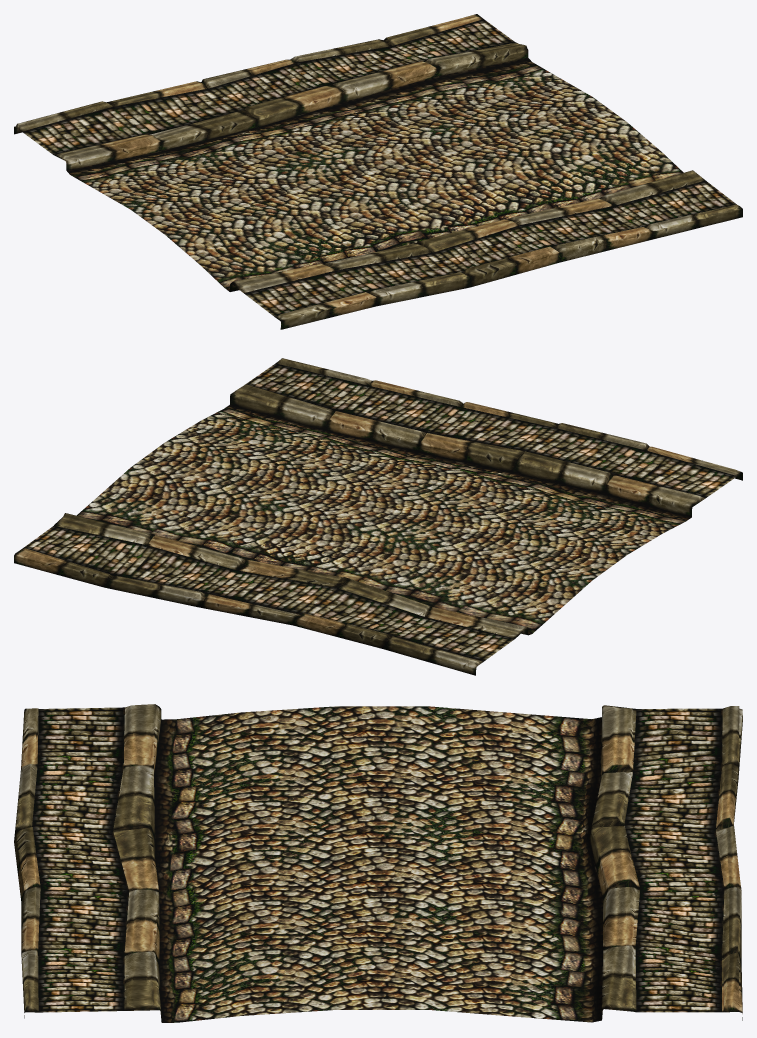
File: RoadStraight_TIL.FBX
3 renders of one model, top to bottom at view 1: azimuth 30°, elevation 25°; view 2: azimuth 150°, elevation 25°; view 3: azimuth 270°, elevation 25°, orthographic. The views are drawn at different scales.
Parts seen in each view (by area): view 1: CobbleRoad_Straight01; view 2: CobbleRoad_Straight01; view 3: CobbleRoad_Straight01.
Part boxes in pixels (box(x1,y1,x2,y2)): CobbleRoad_Straight01: box(14, 14, 742, 329); CobbleRoad_Straight01: box(14, 358, 742, 675); CobbleRoad_Straight01: box(14, 704, 742, 1022).
Size of the model in its own units: 500 by 19.47 by 507.
